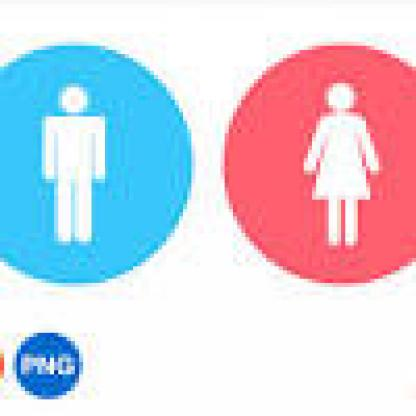toilet: (33, 81, 118, 245), (306, 75, 386, 248)
